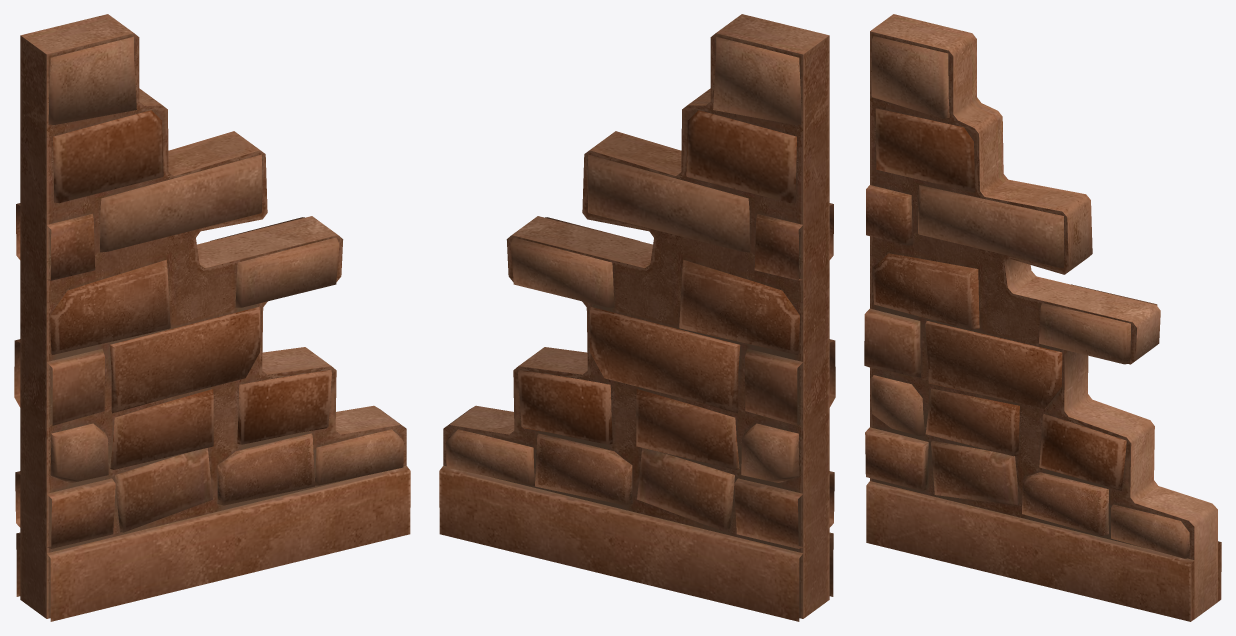
Rendered from wall_destroy_01.glb.
The picture shows the model from 3 angles, left to right: view 1: azimuth 30°, elevation 25°; view 2: azimuth 150°, elevation 25°; view 3: azimuth 330°, elevation 25°; orthographic projection. The views are drawn at different scales.
Parts seen in each view (by area): view 1: wall_destroy_01; view 2: wall_destroy_01; view 3: wall_destroy_01.
Part boxes in pixels (x1=…): wall_destroy_01: x1=14, y1=14, x2=410, y2=621; wall_destroy_01: x1=439, y1=14, x2=835, y2=621; wall_destroy_01: x1=864, y1=14, x2=1221, y2=621.
Size of the model in its own units: 1.67 by 2.5 by 0.3097.
Materials: 1 (1 with a texture image).
